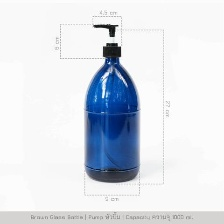bottle: (77, 45, 145, 183)
